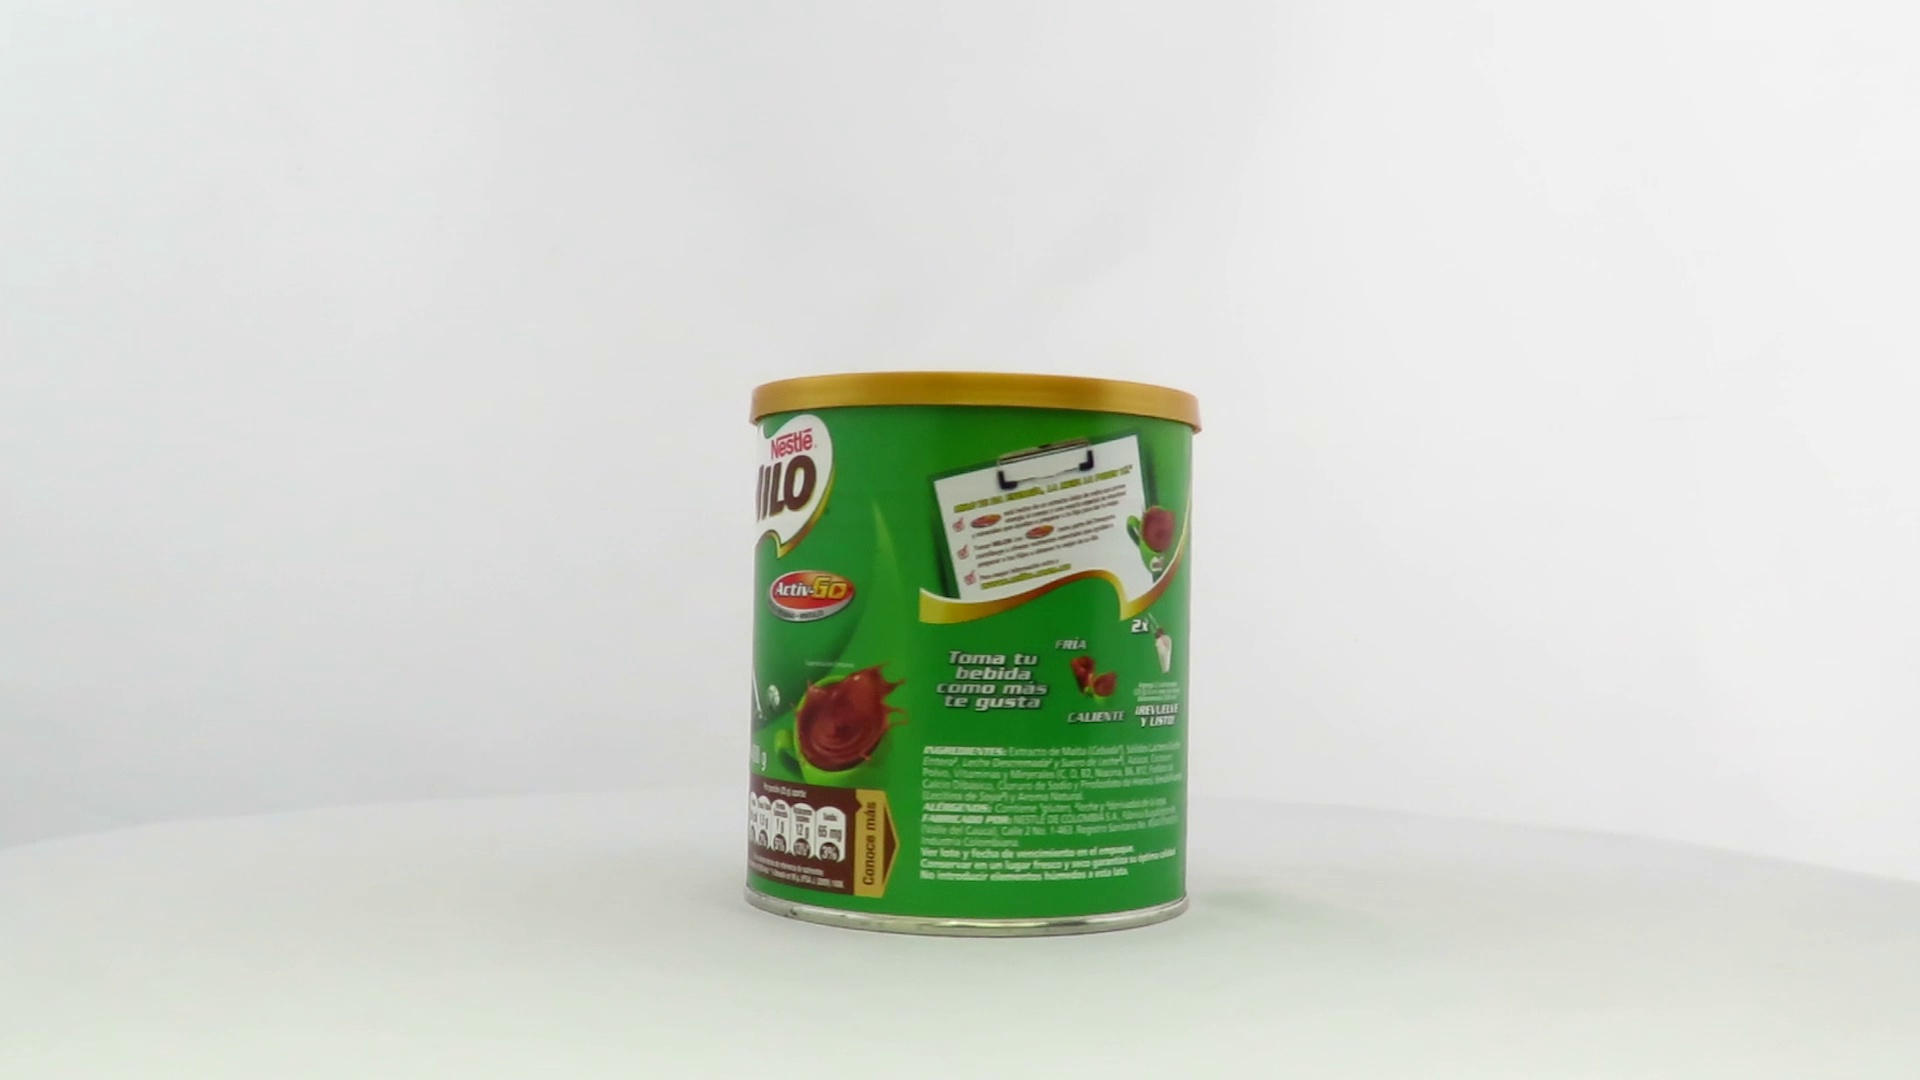COL0170203LAT40000: (738, 367, 1208, 945)
